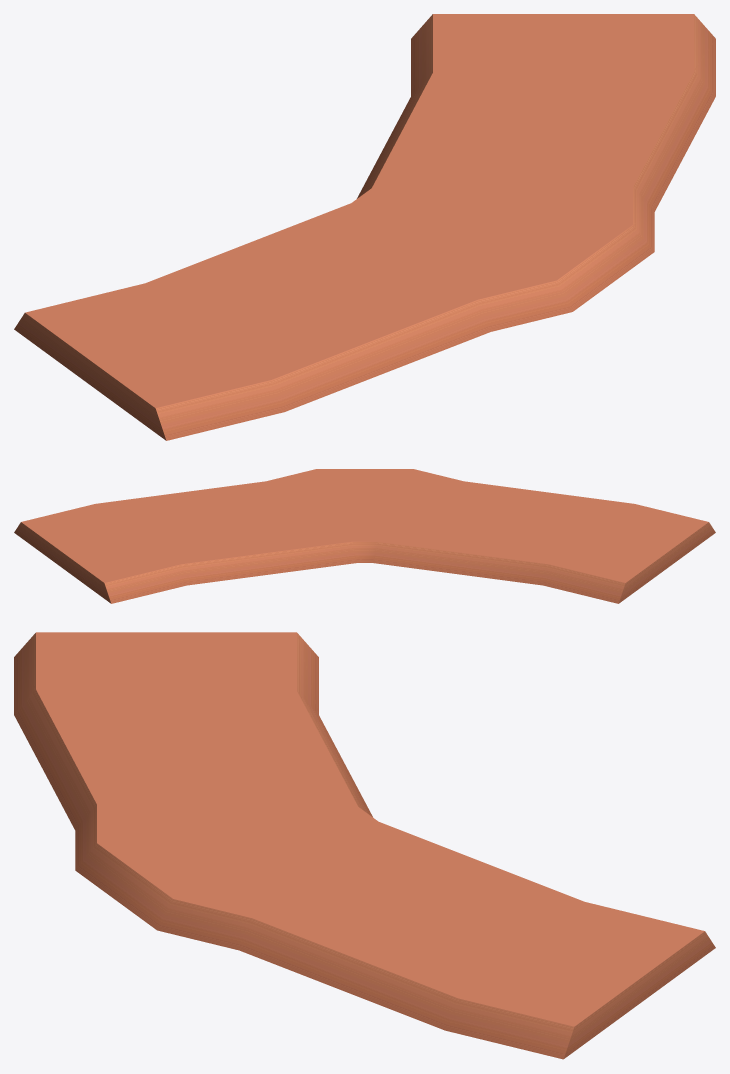
File: path-corner.glb
3 views of the same model, one above another, from view 1: azimuth 30°, elevation 25°; view 2: azimuth 150°, elevation 25°; view 3: azimuth 270°, elevation 25° (orthographic). The views are drawn at different scales.
Parts seen in each view (by area): view 1: path-corner; view 2: path-corner; view 3: path-corner.
Part boxes in pixels (x1=…): path-corner: x1=14, y1=14, x2=715, y2=440; path-corner: x1=14, y1=469, x2=715, y2=603; path-corner: x1=14, y1=632, x2=715, y2=1059.
Size of the model in its own units: 0.8708 by 0.025 by 0.6422.
Materials: 1 (1 with a texture image).
